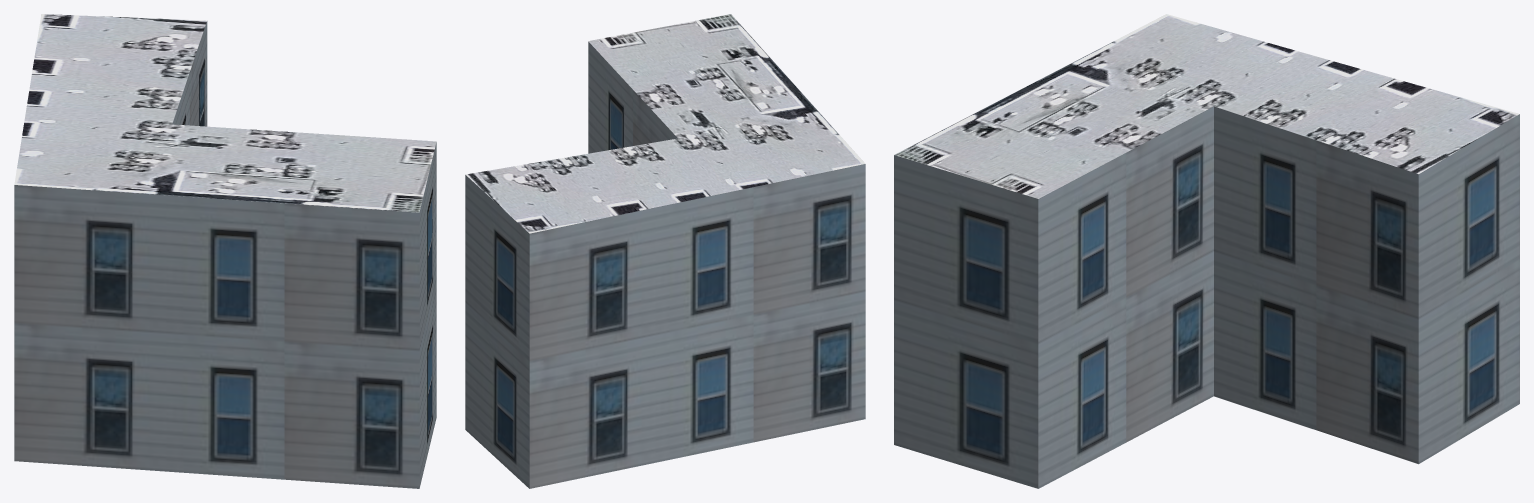
File: ResTex__3702.fbx
The picture shows the model from 3 angles, left to right: view 1: azimuth 30°, elevation 25°; view 2: azimuth 150°, elevation 25°; view 3: azimuth 270°, elevation 25°; orthographic projection. The views are drawn at different scales.
Parts seen in each view (by area): view 1: CityEngineMaterial_18_m, CityEngineMaterial_8_m; view 2: CityEngineMaterial_18_m, CityEngineMaterial_8_m; view 3: CityEngineMaterial_18_m, CityEngineMaterial_8_m.
Boxes of the visible parts, box(x1,y1,x2,y2) form: CityEngineMaterial_18_m: box(14, 21, 436, 488); CityEngineMaterial_8_m: box(14, 14, 436, 212); CityEngineMaterial_18_m: box(465, 42, 865, 488); CityEngineMaterial_8_m: box(466, 14, 865, 233); CityEngineMaterial_18_m: box(894, 106, 1519, 488); CityEngineMaterial_8_m: box(894, 14, 1519, 198).
Bounding box in the file's own units: 8.21 × 6 × 11.74.
Materials: 2 (2 with a texture image).
